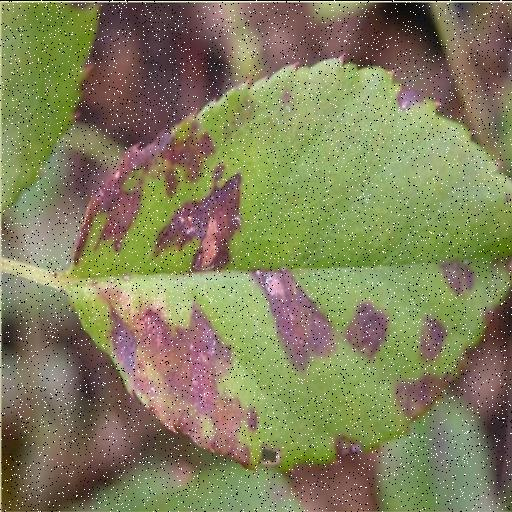downy_mildew: (68, 60, 511, 467)
